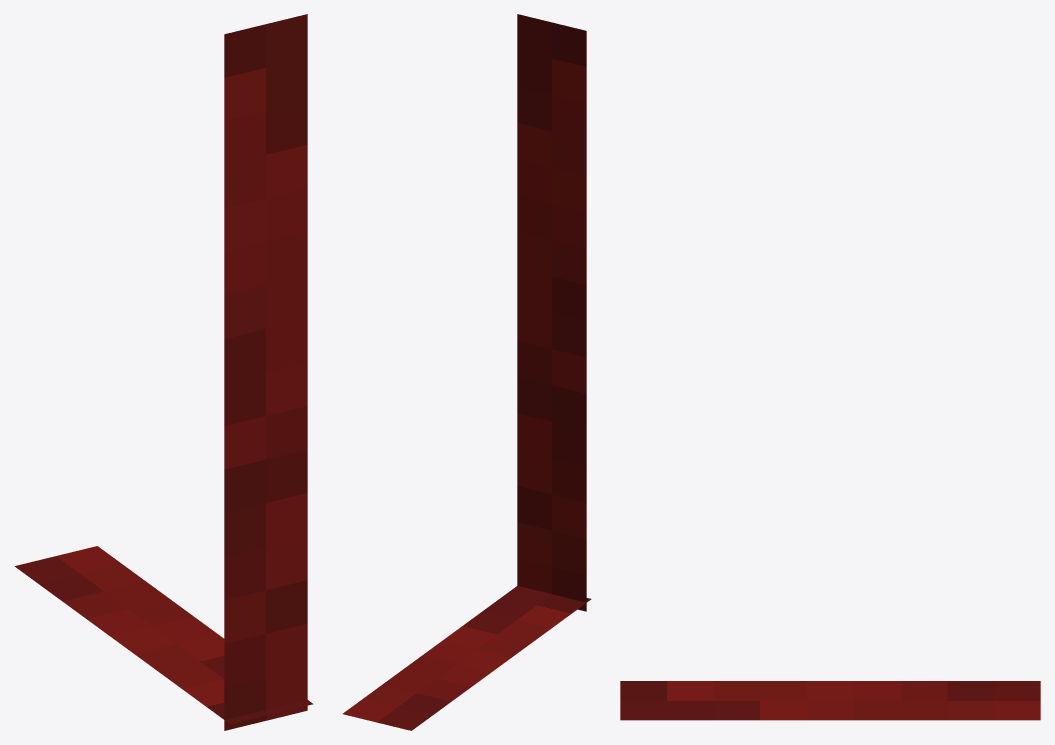
File: dust_0020.gltf
The picture shows the model from 3 angles, left to right: view 1: azimuth 30°, elevation 25°; view 2: azimuth 150°, elevation 25°; view 3: azimuth 270°, elevation 25°; orthographic projection. The views are drawn at different scales.
Parts seen in each view (by area): view 1: dust_0020; view 2: dust_0020; view 3: dust_0020.
Part boxes in pixels (bbox=[...]): dust_0020: bbox=[14, 14, 313, 730]; dust_0020: bbox=[343, 14, 591, 730]; dust_0020: bbox=[620, 681, 1040, 720].
Bounding box in the file's own units: 0.125 × 1 × 0.5625.
Materials: 1 (1 with a texture image).
